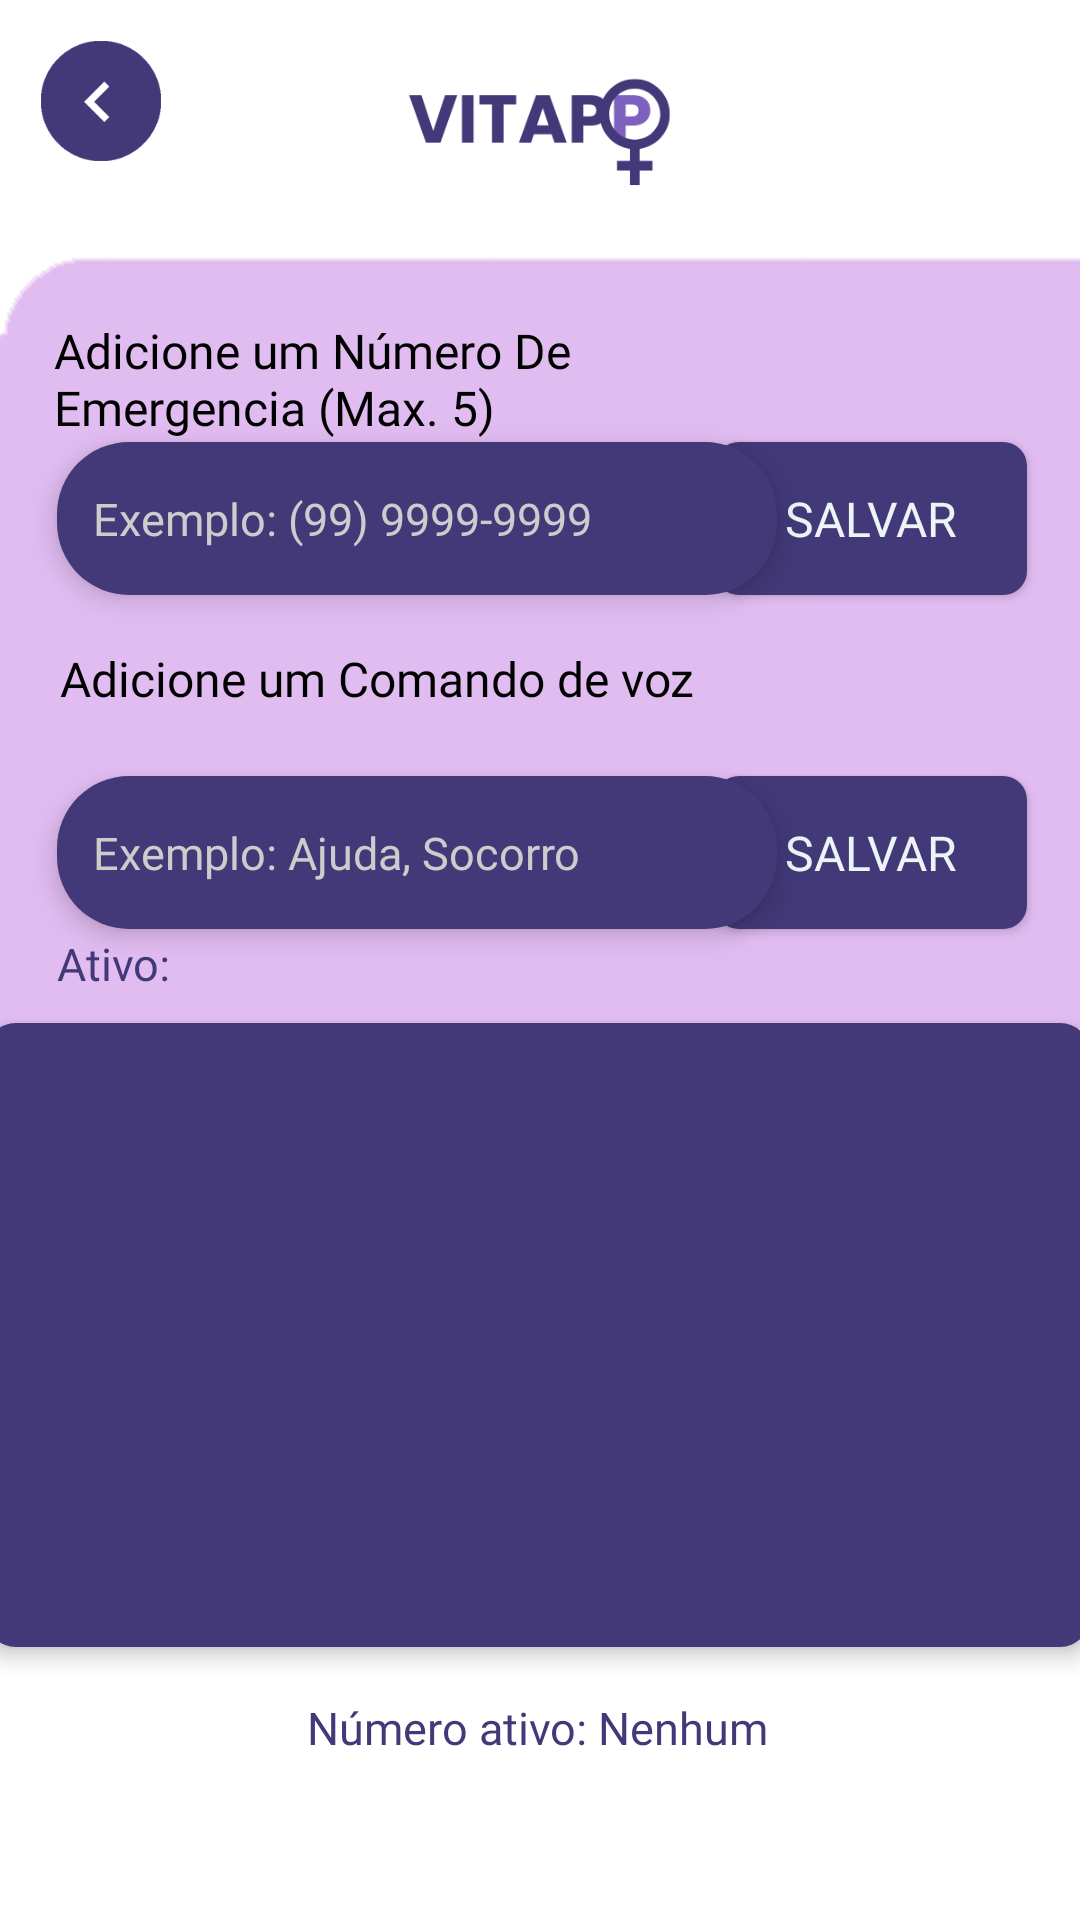

Icons on this 1080 x 1920 Android screen, each with the point to tap as (x=x, y=y):
voltar: (x=101, y=101)
